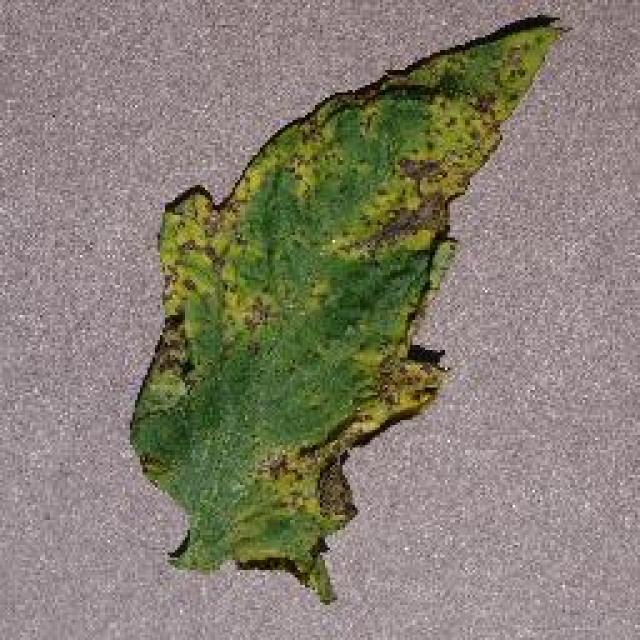Tomato Septoria spot leaf: (135, 17, 576, 606)
